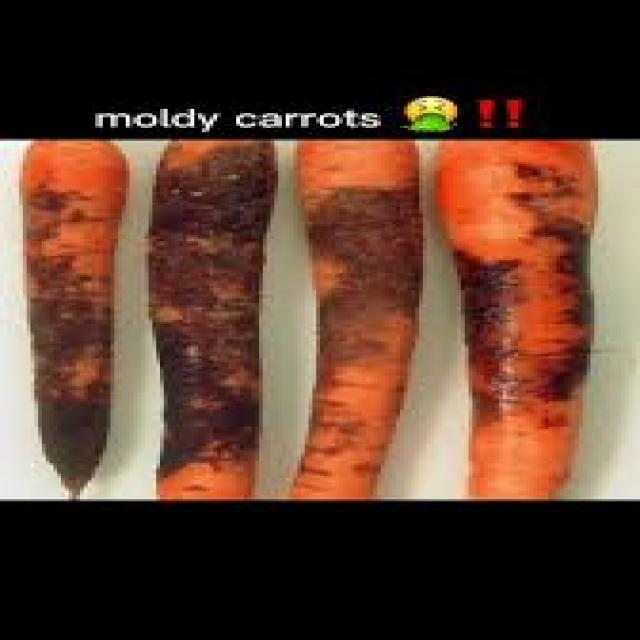Stale_Carrot: (431, 144, 574, 506), (277, 140, 410, 509), (12, 142, 117, 527), (162, 142, 250, 513)
